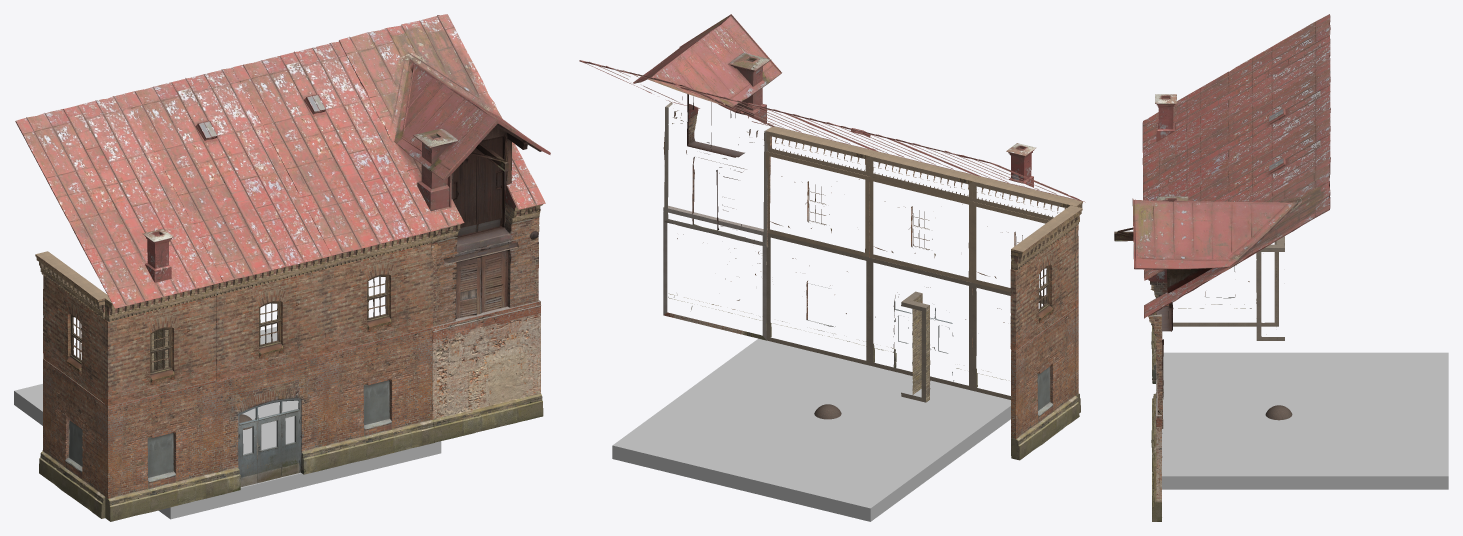
Rendered from Main.gltf.
3 views of the same model, side by side, from view 1: azimuth 30°, elevation 25°; view 2: azimuth 150°, elevation 25°; view 3: azimuth 270°, elevation 25° (orthographic). The views are drawn at different scales.
Visible parts, largest first — view 1: StaticMeshActor_25_StaticMeshComponent0, StaticMeshActor_5_StaticMeshComponent0, StaticMeshActor_45_StaticMeshComponent0, StaticMeshActor_46_StaticMeshComponent0, StaticMeshActor_33_StaticMeshComponent0, StaticMeshActor_20_StaticMeshComponent0, StaticMeshActor_28_StaticMeshComponent0, StaticMeshActor_16_StaticMeshComponent0, StaticMeshActor_6_StaticMeshComponent0, StaticMeshActor_34_StaticMeshComponent0, StaticMeshActor_35_StaticMeshComponent0, StaticMeshActor_49_StaticMeshComponent0 (+6 smaller); view 2: Floor_StaticMeshComponent0, StaticMeshActor_25_StaticMeshComponent0, StaticMeshActor_49_StaticMeshComponent0, StaticMeshActor_47_StaticMeshComponent0, StaticMeshActor_20_StaticMeshComponent0, StaticMeshActor_16_StaticMeshComponent0, StaticMeshActor_28_StaticMeshComponent0, StaticMeshActor_12_StaticMeshComponent0, StaticMeshActor_41_StaticMeshComponent0, StaticMeshActor_42_StaticMeshComponent0, StaticMeshActor_34_StaticMeshComponent0, StaticMeshActor_5_StaticMeshComponent0 (+7 smaller); view 3: Floor_StaticMeshComponent0, StaticMeshActor_25_StaticMeshComponent0, StaticMeshActor_5_StaticMeshComponent0, StaticMeshActor_45_StaticMeshComponent0, StaticMeshActor_46_StaticMeshComponent0, StaticMeshActor_20_StaticMeshComponent0, StaticMeshActor_49_StaticMeshComponent0, StaticMeshActor_12_StaticMeshComponent0.
Boxes of the visible parts, box(x1,y1,x2,y2) form: StaticMeshActor_25_StaticMeshComponent0: box(338, 14, 550, 326); StaticMeshActor_5_StaticMeshComponent0: box(15, 94, 222, 308); StaticMeshActor_45_StaticMeshComponent0: box(123, 68, 331, 282); StaticMeshActor_46_StaticMeshComponent0: box(232, 42, 439, 255); StaticMeshActor_33_StaticMeshComponent0: box(105, 380, 218, 521); StaticMeshActor_20_StaticMeshComponent0: box(432, 300, 543, 442); StaticMeshActor_28_StaticMeshComponent0: box(324, 327, 434, 469); StaticMeshActor_16_StaticMeshComponent0: box(216, 354, 326, 495); StaticMeshActor_6_StaticMeshComponent0: box(105, 296, 216, 406); StaticMeshActor_34_StaticMeshComponent0: box(216, 269, 324, 380); StaticMeshActor_35_StaticMeshComponent0: box(324, 243, 433, 353); StaticMeshActor_49_StaticMeshComponent0: box(39, 358, 105, 518); Floor_StaticMeshComponent0: box(612, 338, 1010, 521); StaticMeshActor_25_StaticMeshComponent0: box(579, 14, 781, 247); StaticMeshActor_49_StaticMeshComponent0: box(1011, 308, 1079, 460); StaticMeshActor_47_StaticMeshComponent0: box(1010, 228, 1075, 351); StaticMeshActor_20_StaticMeshComponent0: box(663, 205, 771, 340); StaticMeshActor_16_StaticMeshComponent0: box(869, 257, 977, 390); StaticMeshActor_28_StaticMeshComponent0: box(766, 233, 874, 365); StaticMeshActor_12_StaticMeshComponent0: box(901, 291, 930, 402); StaticMeshActor_41_StaticMeshComponent0: box(869, 151, 979, 201); StaticMeshActor_42_StaticMeshComponent0: box(766, 126, 875, 176); StaticMeshActor_34_StaticMeshComponent0: box(869, 176, 972, 282); StaticMeshActor_5_StaticMeshComponent0: box(887, 137, 1085, 202); Floor_StaticMeshComponent0: box(1156, 352, 1448, 489); StaticMeshActor_25_StaticMeshComponent0: box(1114, 160, 1330, 428); StaticMeshActor_5_StaticMeshComponent0: box(1142, 14, 1330, 170); StaticMeshActor_45_StaticMeshComponent0: box(1143, 63, 1330, 200); StaticMeshActor_46_StaticMeshComponent0: box(1143, 113, 1330, 269); StaticMeshActor_20_StaticMeshComponent0: box(1152, 366, 1162, 521); StaticMeshActor_49_StaticMeshComponent0: box(1173, 241, 1278, 326); StaticMeshActor_12_StaticMeshComponent0: box(1256, 236, 1284, 340).
Bounding box in the file's own units: 16.25 × 12.5 × 11.43.
